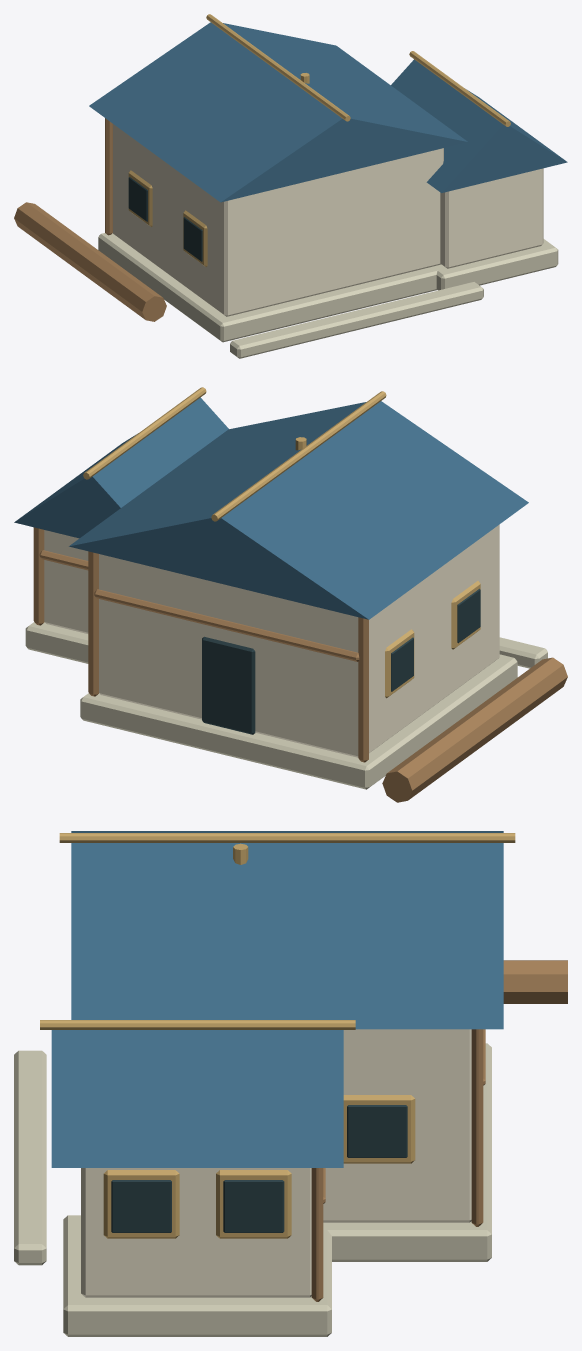
File: level_07.glb
3 renders of one model, top to bottom at view 1: azimuth 30°, elevation 25°; view 2: azimuth 150°, elevation 25°; view 3: azimuth 270°, elevation 25°, orthographic. The views are drawn at different scales.
Visible parts, largest first — view 1: timber_yard — level 07; view 2: timber_yard — level 07; view 3: timber_yard — level 07.
Boxes of the visible parts, x1,y1,x2,y2 form: timber_yard — level 07: (14, 14, 567, 358); timber_yard — level 07: (14, 387, 567, 802); timber_yard — level 07: (14, 831, 567, 1336).
Bounding box in the file's own units: 6.43 × 3.16 × 4.74.
